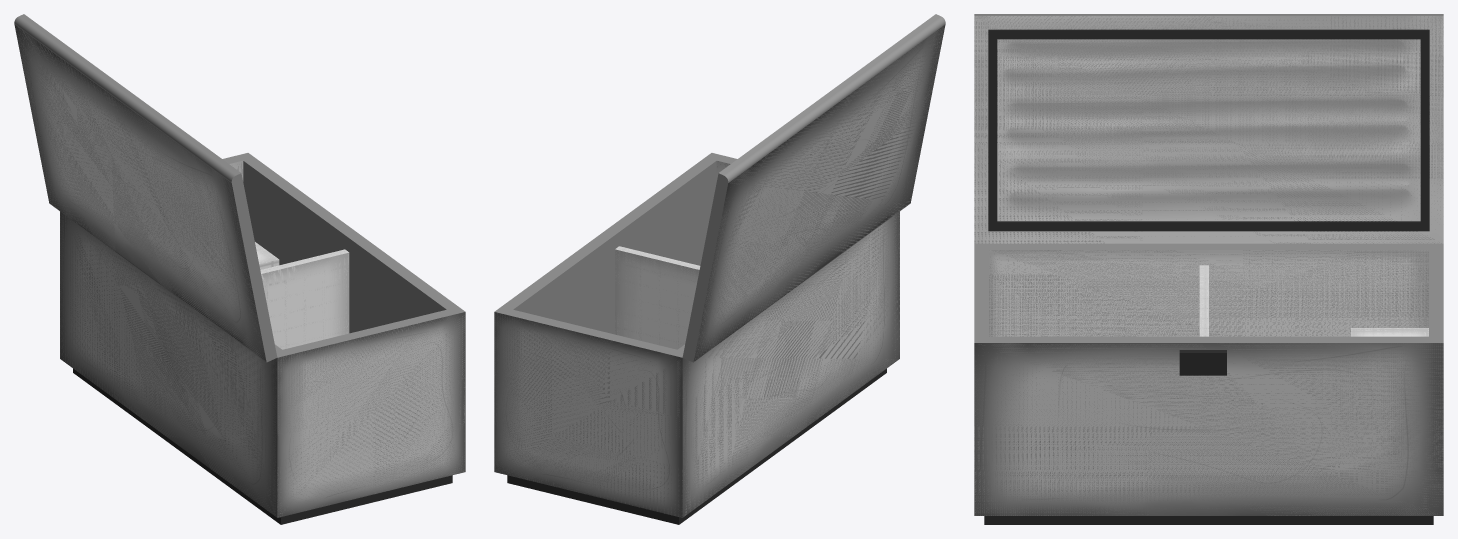
The model's file is FREEZER.dae.
3 renders of one model, left to right at view 1: azimuth 30°, elevation 25°; view 2: azimuth 150°, elevation 25°; view 3: azimuth 270°, elevation 25°, orthographic. The views are drawn at different scales.
Visible parts, largest first — view 1: Agrupar_3 (×4), Componente_4 (×2), Agrupar_4, group_0; view 2: Agrupar_3 (×4), Componente_4 (×2), Agrupar_4, group_0; view 3: Agrupar_3 (×3), Componente_4 (×2), Agrupar_2 (×2), group_0, group_1, Agrupar_4, Componente_2.
Boxes of the visible parts, x1=… form: Agrupar_3 (×4): x1=60, y1=153, x2=465, y2=517; Componente_4 (×2): x1=14, y1=14, x2=277, y2=362; Agrupar_4: x1=261, y1=252, x2=349, y2=349; group_0: x1=73, y1=368, x2=452, y2=524; Agrupar_3 (×4): x1=494, y1=153, x2=899, y2=517; Componente_4 (×2): x1=682, y1=14, x2=945, y2=362; Agrupar_4: x1=615, y1=249, x2=699, y2=349; group_0: x1=507, y1=368, x2=886, y2=524; Agrupar_3 (×3): x1=974, y1=243, x2=1443, y2=515; Componente_4 (×2): x1=974, y1=14, x2=1443, y2=243; Agrupar_2 (×2): x1=988, y1=29, x2=1429, y2=231; group_0: x1=984, y1=516, x2=1433, y2=524; group_1: x1=1179, y1=350, x2=1226, y2=375; Agrupar_4: x1=1199, y1=265, x2=1208, y2=336; Componente_2: x1=1351, y1=328, x2=1428, y2=336.
Size of the model in its own units: 50.16 by 78.74 by 73.15.
10 materials, 7 textured.
